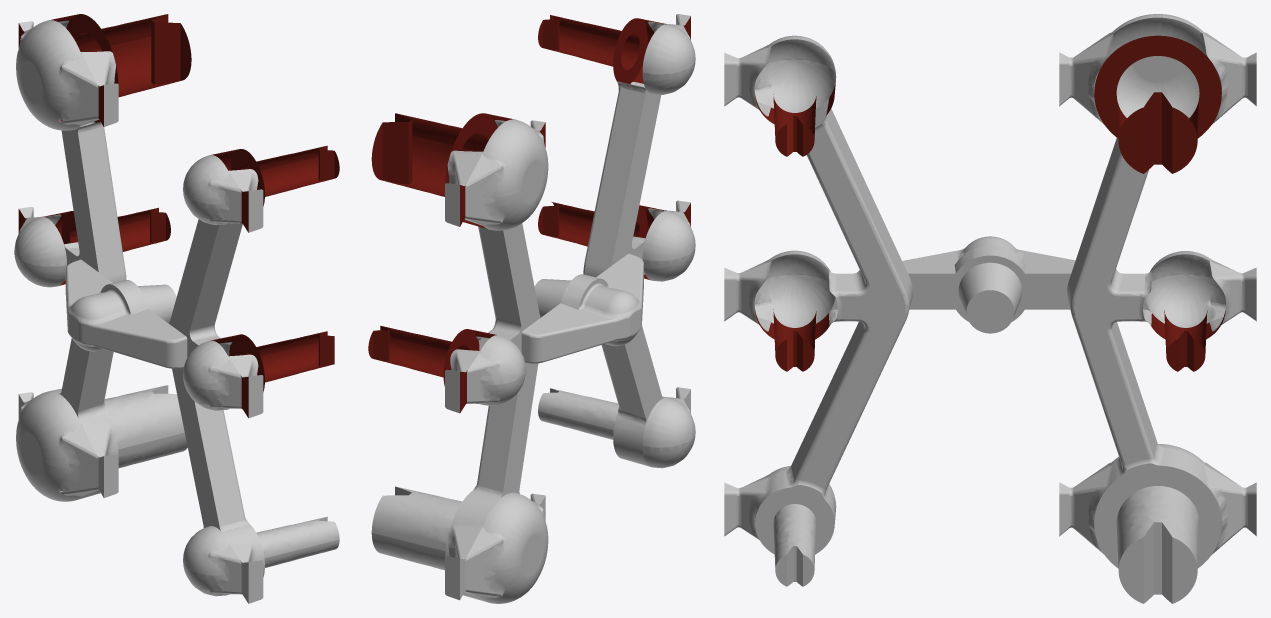
Rendered from model_abedeea0-fac4-412a-b443-52727ea82edd.glb.
3 renders of one model, left to right at view 1: azimuth 30°, elevation 25°; view 2: azimuth 150°, elevation 25°; view 3: azimuth 270°, elevation 25°, orthographic. The views are drawn at different scales.
Parts seen in each view (by area): view 1: Mesh (×59); view 2: Mesh (×56); view 3: Mesh (×42).
Boxes of the visible parts, bbox=[...] form: Mesh (×59): bbox=[14, 14, 339, 603]; Mesh (×56): bbox=[371, 15, 695, 603]; Mesh (×42): bbox=[755, 14, 1221, 603].
Size of the model in its own units: 145 by 379 by 334.
